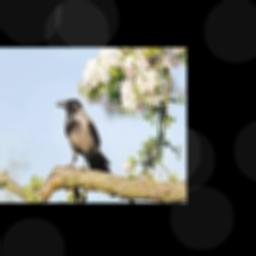Crow: (56, 99, 111, 170)
